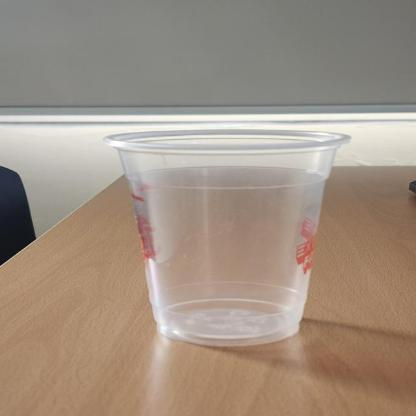Plastic Cup: (104, 128, 354, 348)
